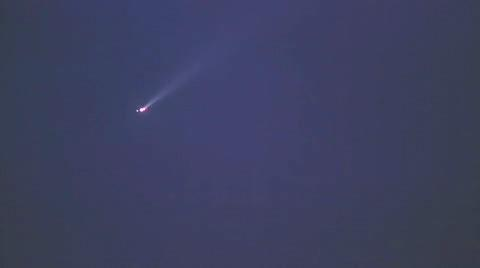Plane: (117, 74, 200, 121)
